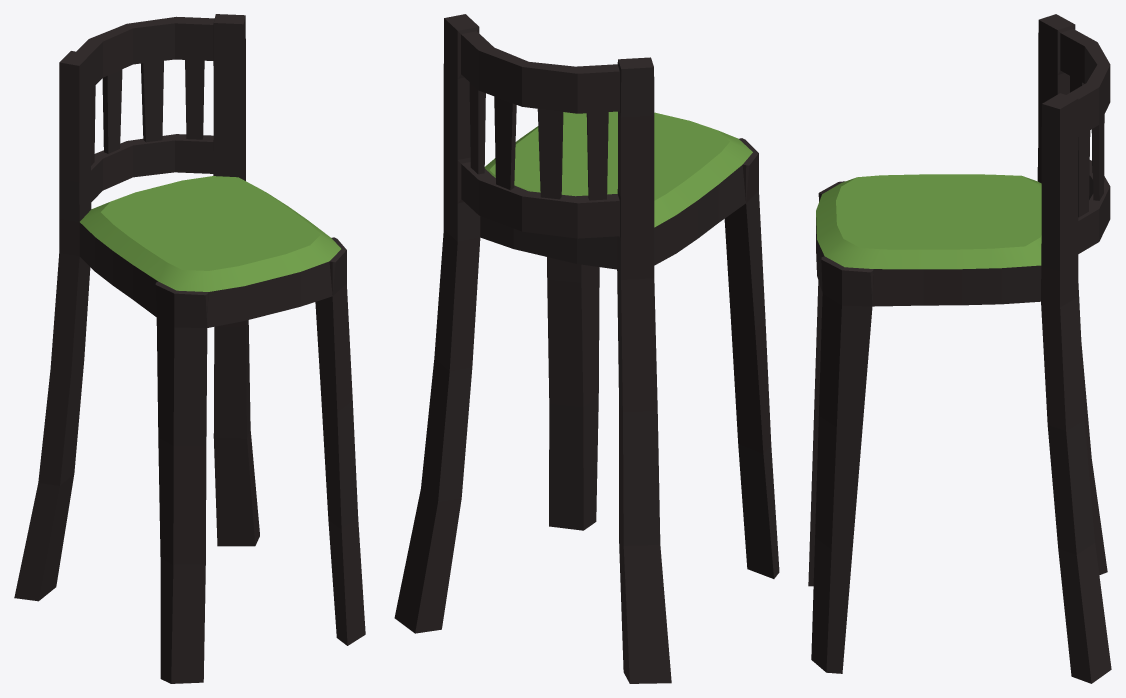
Rendered from 33ac9c80-df1a-4b96-99d0-cbeb4971b6fd.glb.
3 views of the same model, side by side, from view 1: azimuth 30°, elevation 25°; view 2: azimuth 150°, elevation 25°; view 3: azimuth 270°, elevation 25° (orthographic). The views are drawn at different scales.
Parts seen in each view (by area): view 1: BarChair.011; view 2: BarChair.011; view 3: BarChair.011.
Boxes of the visible parts, x1=… form: BarChair.011: x1=14, y1=14, x2=365, y2=683; BarChair.011: x1=394, y1=14, x2=779, y2=683; BarChair.011: x1=808, y1=14, x2=1111, y2=683.
Size of what is drawn, in the model's own units: 0.5565 by 1.15 by 0.5668.
Materials: 1 (1 with a texture image).
